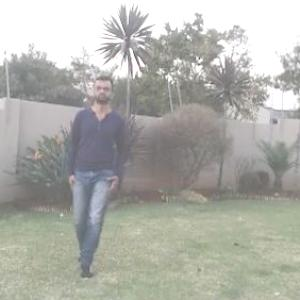follow: (55, 45, 133, 283)
